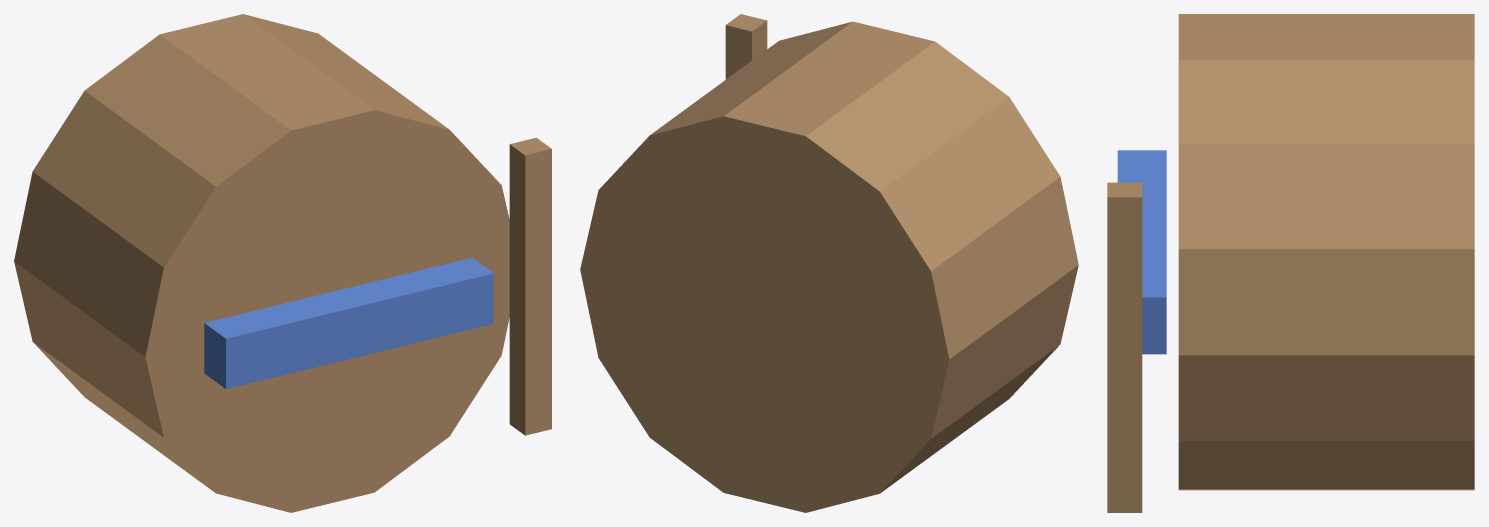
The model's file is shop_dye_vat.glb.
The picture shows the model from 3 angles, left to right: view 1: azimuth 30°, elevation 25°; view 2: azimuth 150°, elevation 25°; view 3: azimuth 270°, elevation 25°; orthographic projection. The views are drawn at different scales.
Visible parts, largest first — view 1: vat, dye_surface, stir_stick; view 2: vat, stir_stick; view 3: vat, stir_stick, dye_surface.
Boxes of the visible parts, left/top/right/bottom form: vat: left=14, top=14, right=509, bottom=512; dye_surface: left=204, top=257, right=493, bottom=388; stir_stick: left=509, top=137, right=551, bottom=435; vat: left=580, top=21, right=1078, bottom=512; stir_stick: left=725, top=14, right=767, bottom=79; vat: left=1178, top=14, right=1474, bottom=490; stir_stick: left=1107, top=182, right=1142, bottom=512; dye_surface: left=1117, top=150, right=1166, bottom=354.
Bounding box in the file's own units: 1.4 × 1.36 × 1.05.
